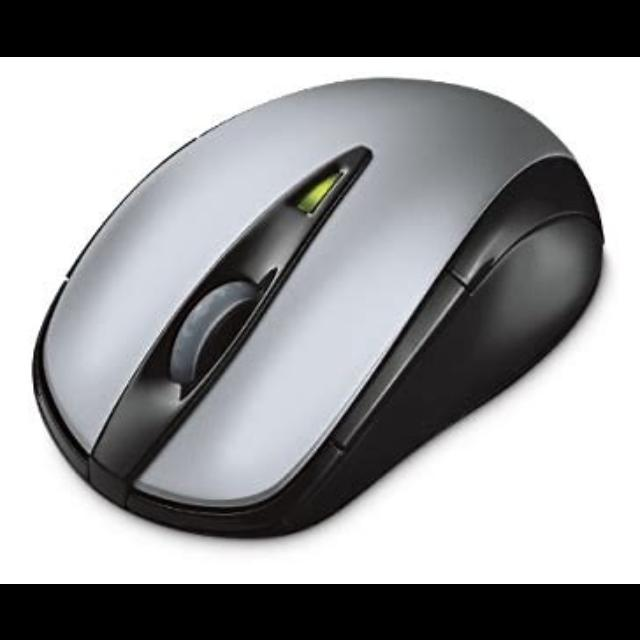Computer-Mouse: (32, 77, 607, 541)
